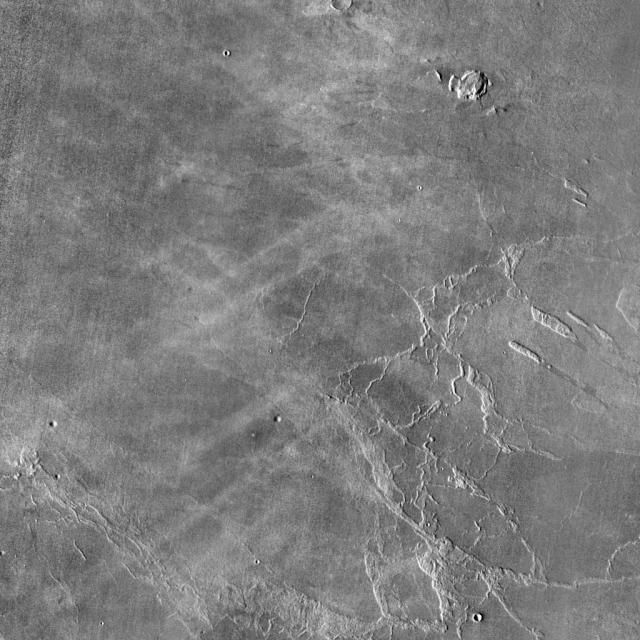crater: (441, 47, 473, 76), (52, 417, 60, 425), (275, 412, 284, 419), (469, 604, 477, 610)
